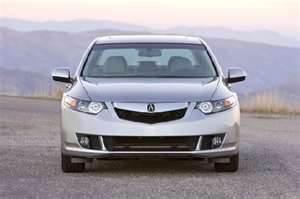Car: (33, 24, 263, 180)
